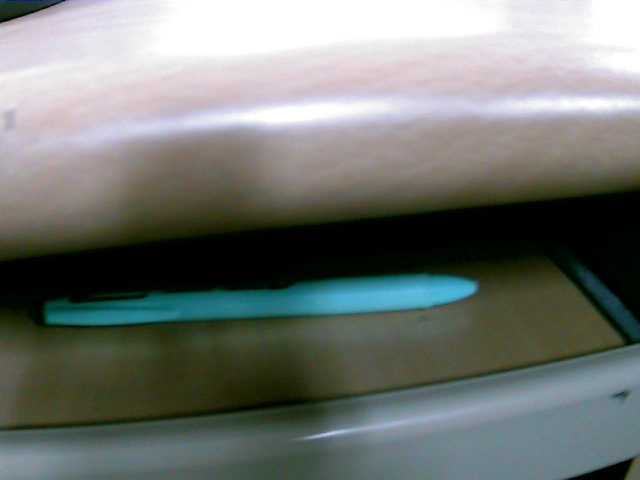pen: (0, 142, 584, 399)
